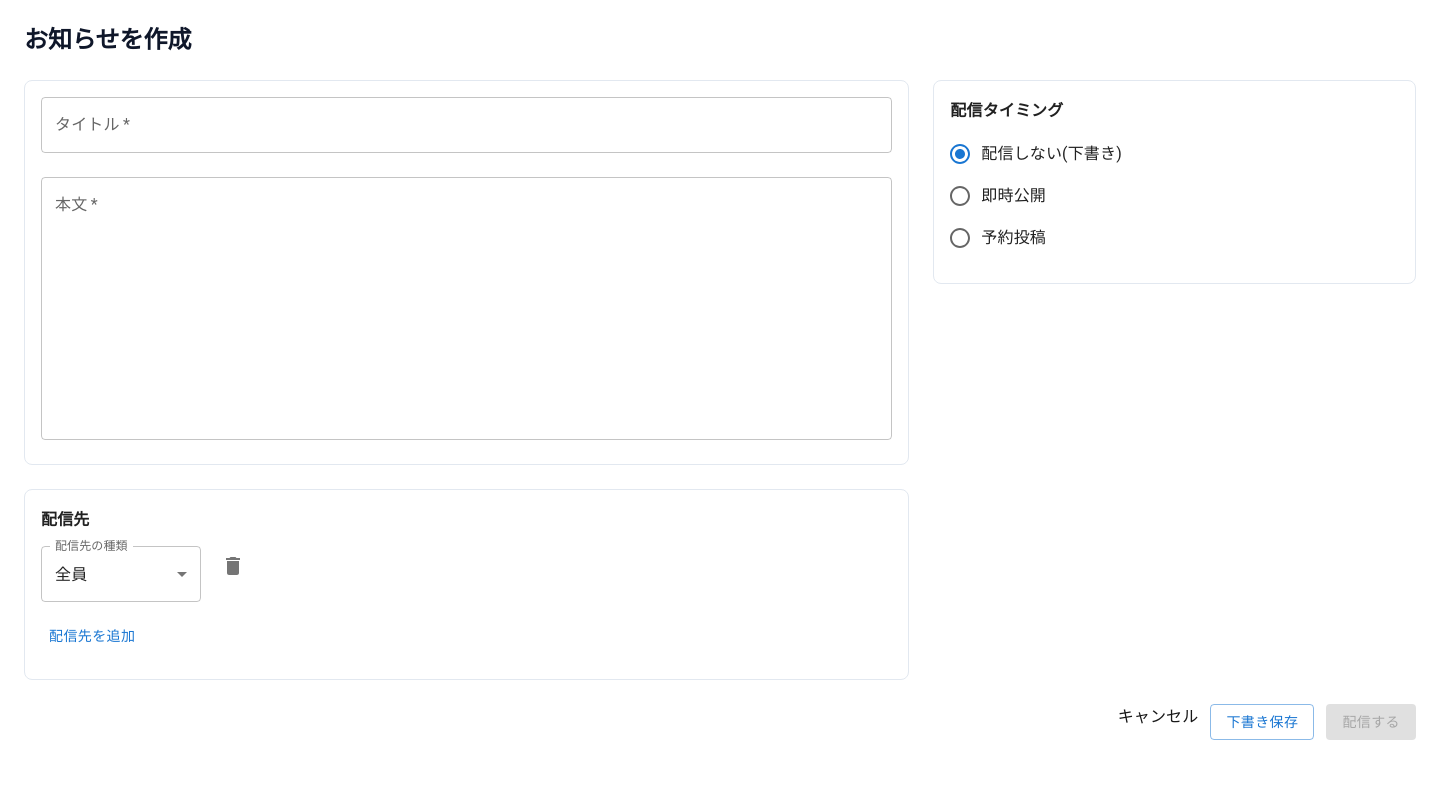
AnnouncementEditorPresenter › 配信先の検証 › 配信先をすべて削除して保存するとエラーが表示されonSaveDraftは呼ばれない
In the field labelled "タイトル": (467, 125) [41,97,892,153], type "お知らせ"
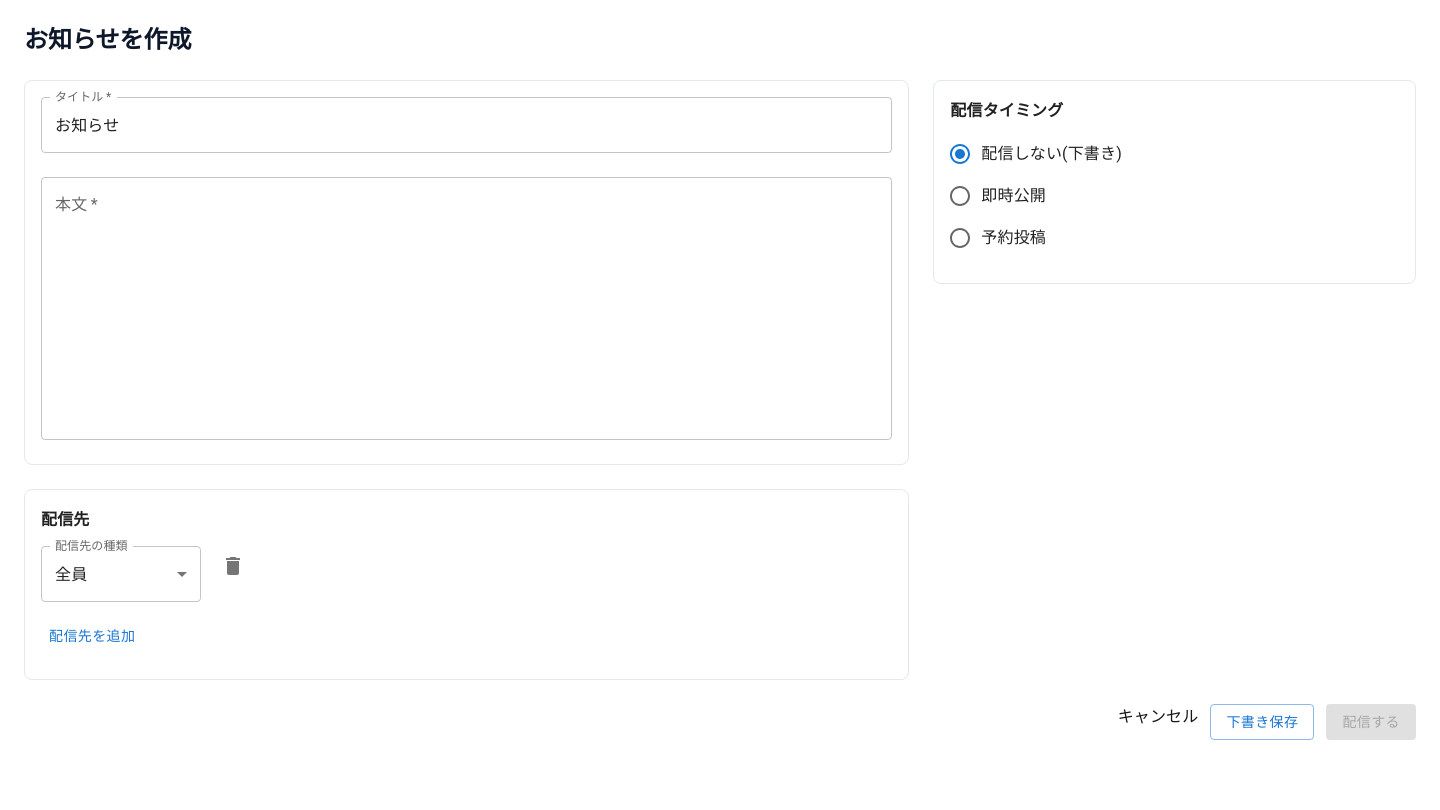
In the text box labelled "本文": (467, 308) [55,194,878,424], type "本文です"
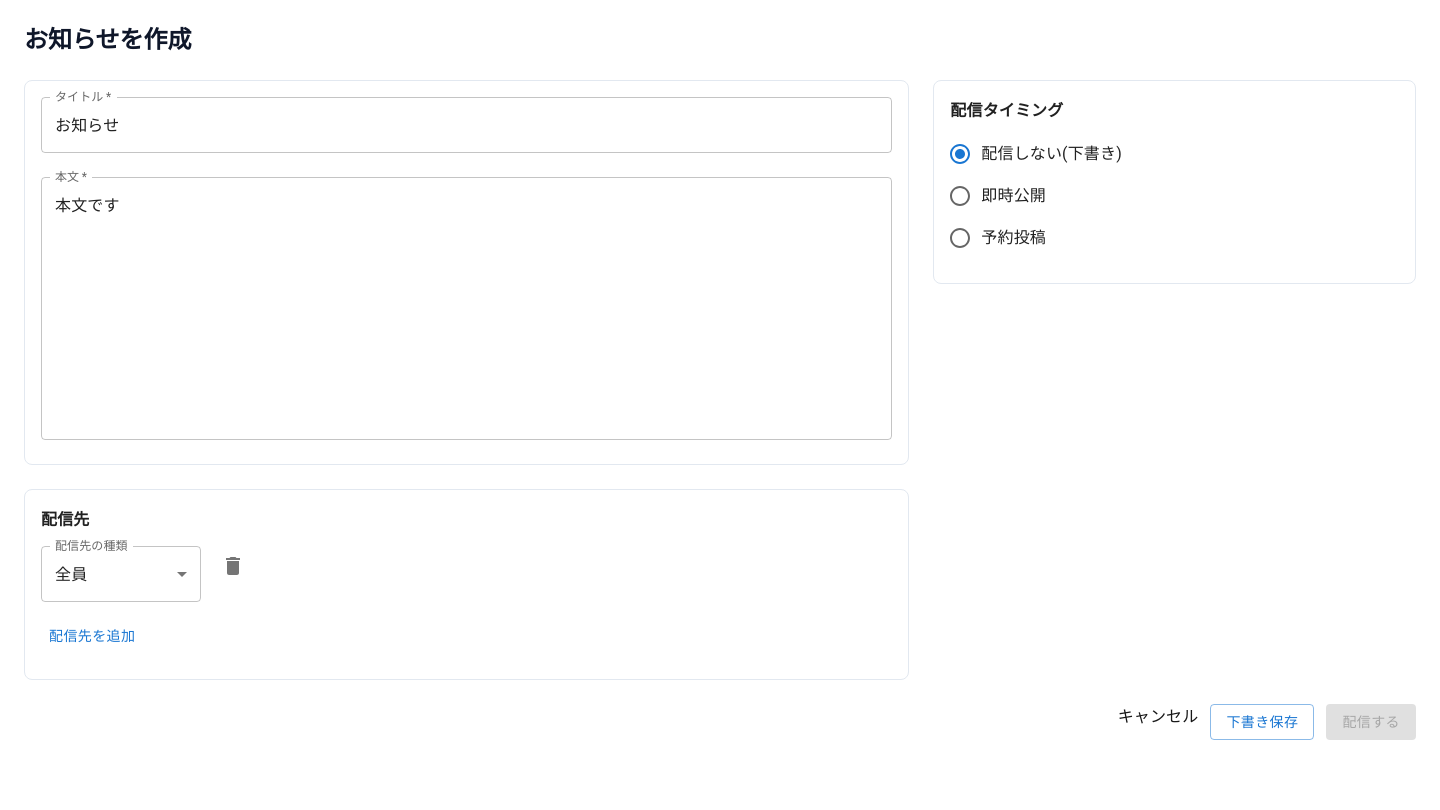
Click the button named "削除": (233, 566) [213,546,253,586]
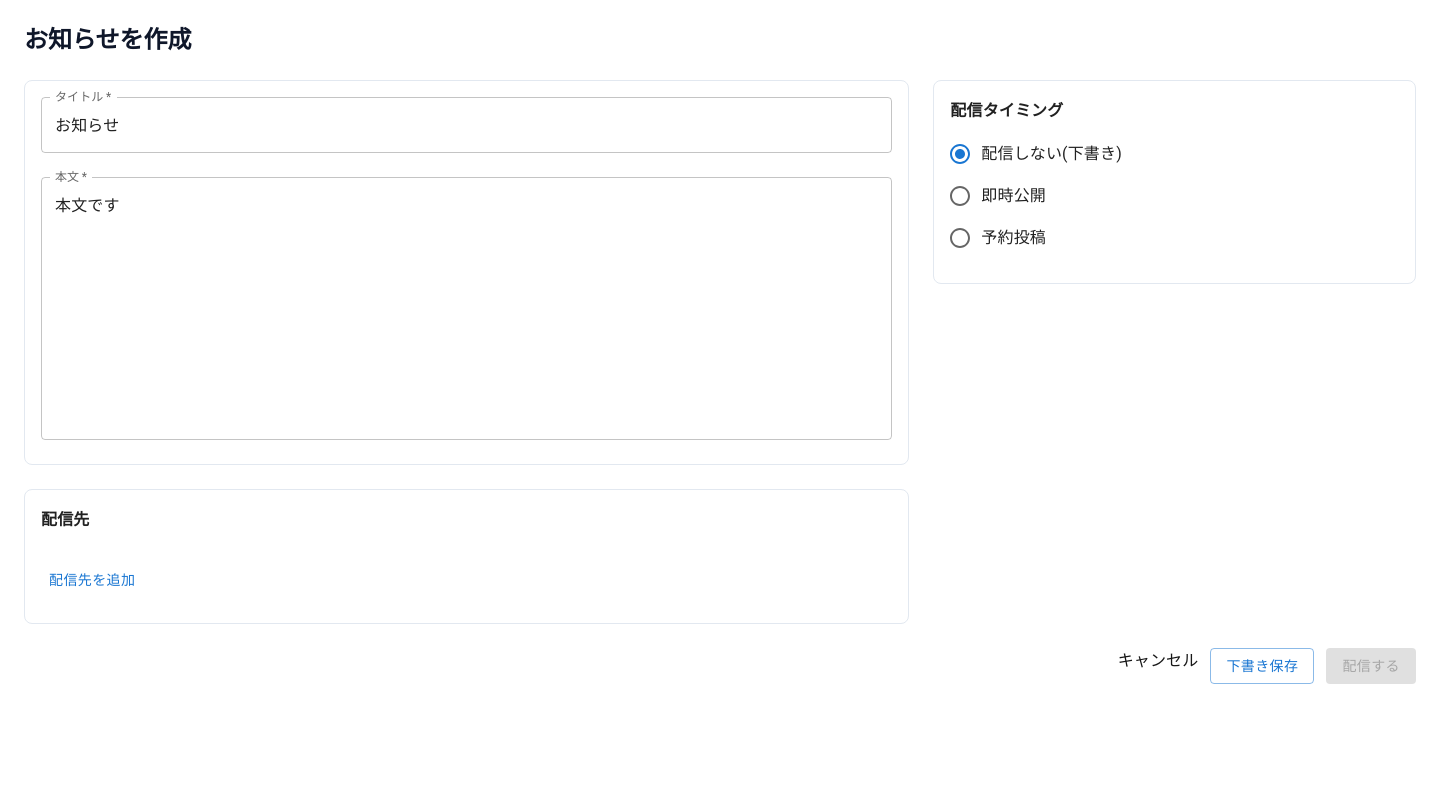
Click the button "下書き保存": (1262, 666) [1210,648,1314,684]
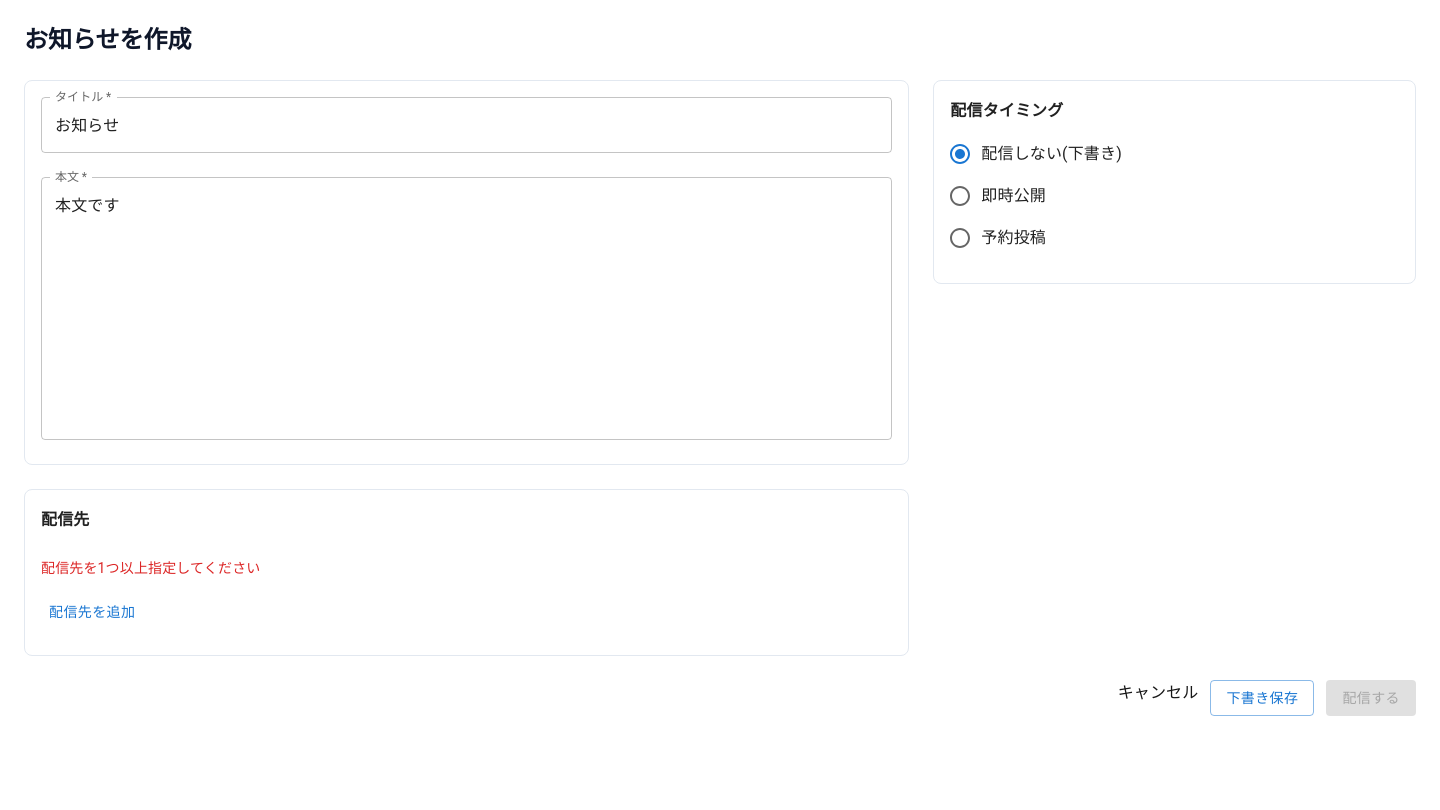
Expected: the text "配信先を1つ以上指定してください" is shown, [41,560,260,576]
